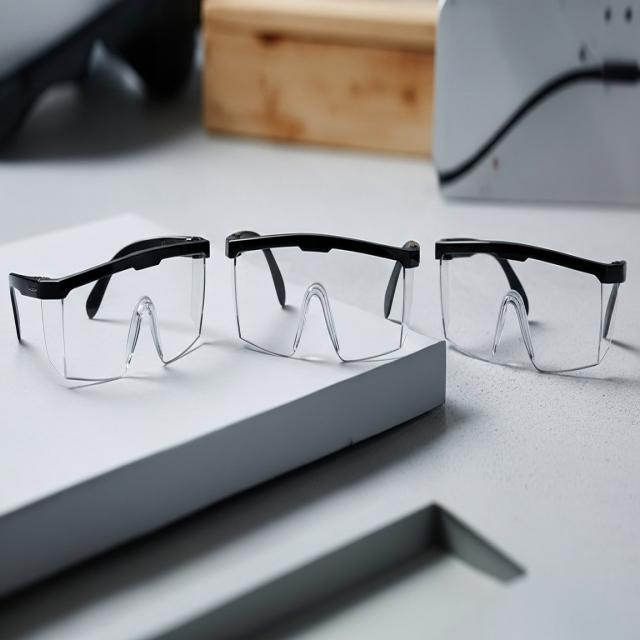oculos-epi: (10, 237, 209, 380), (435, 238, 625, 372), (227, 232, 419, 361)
